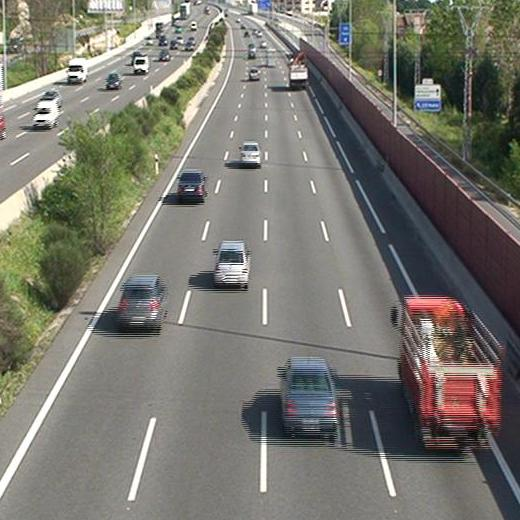car: (279, 359, 337, 433), (118, 277, 166, 327), (213, 240, 250, 285), (178, 171, 206, 203), (239, 142, 261, 166), (250, 68, 261, 82)
small-truck: (396, 298, 501, 450), (288, 56, 308, 88), (266, 49, 276, 67)
